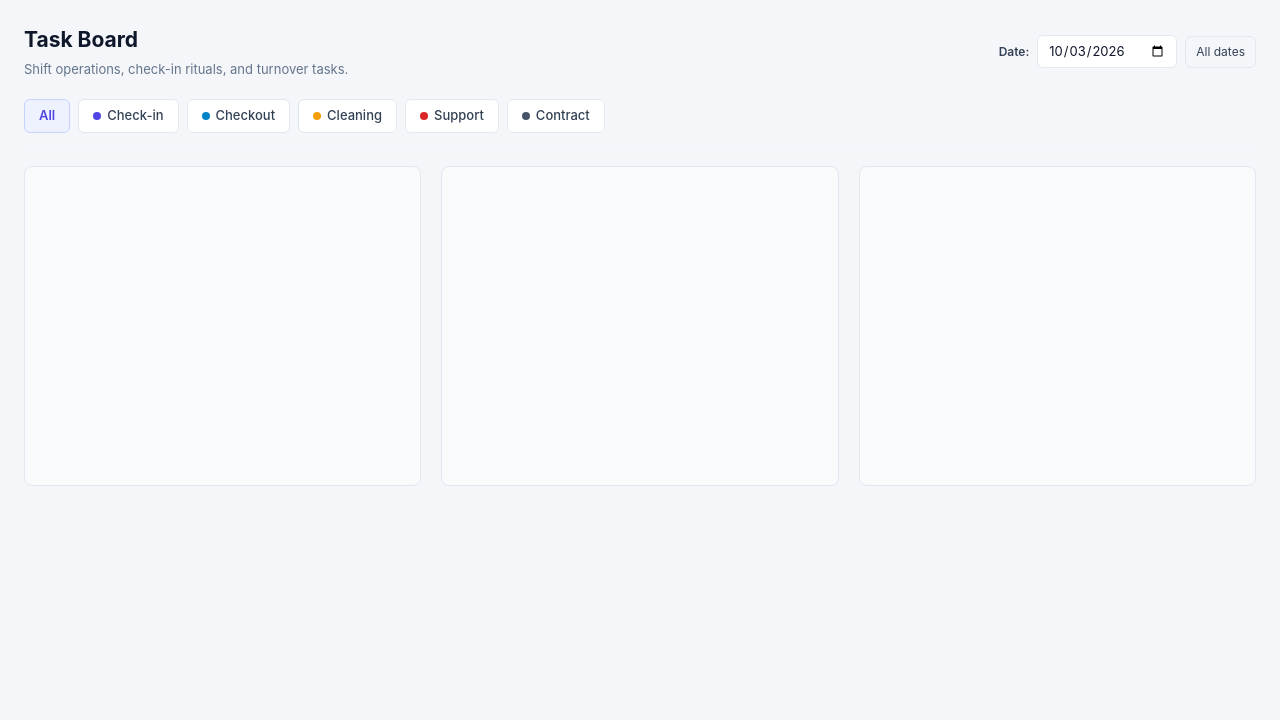
Scenario: Story 6.5: Cleaning hoàn tất từ card + Turnover Buffer › blocks completing CLEANING task when turnover buffer is pending and snaps card back with informative toast
Click the button with test id "all-dates-btn": (1221, 52) top-left (1185, 36), bottom-right (1256, 68)
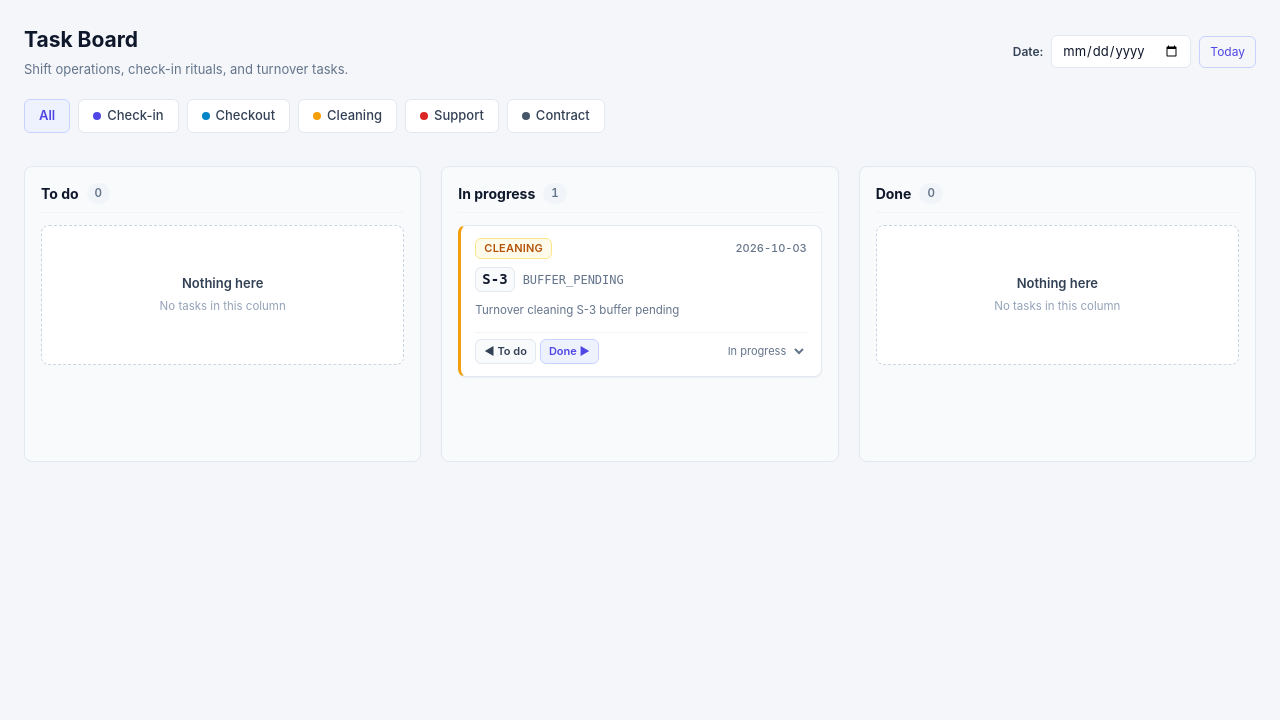
Expected: the element with test id "task-card-701" is shown, top-left (458, 225), bottom-right (822, 377)
Note: Try moving CLEANING card to Done via status dropdown
Select "Done" in the dropdown with test id "status-select-701": (763, 352) top-left (720, 342), bottom-right (807, 362)
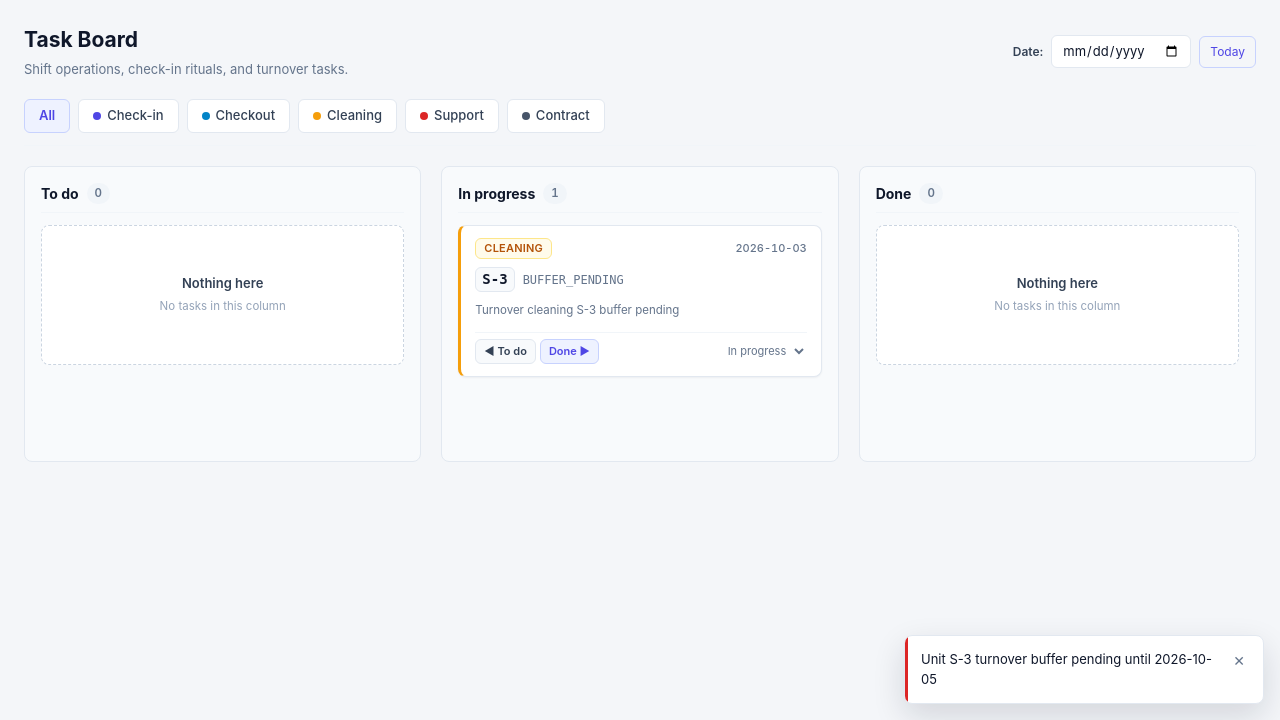
Expected: the text with test id "column-count-in_progress" reads "1", top-left (551, 186), bottom-right (559, 200)
Expected: the text with test id "column-count-done" reads "0", top-left (927, 186), bottom-right (935, 200)
Expected: the text "Unit S-3 turnover buffer pending until 2026-10-05" is shown, top-left (921, 650), bottom-right (1213, 689)
